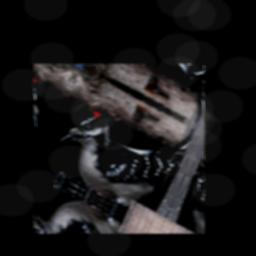Woodpecker: (46, 71, 196, 226)
